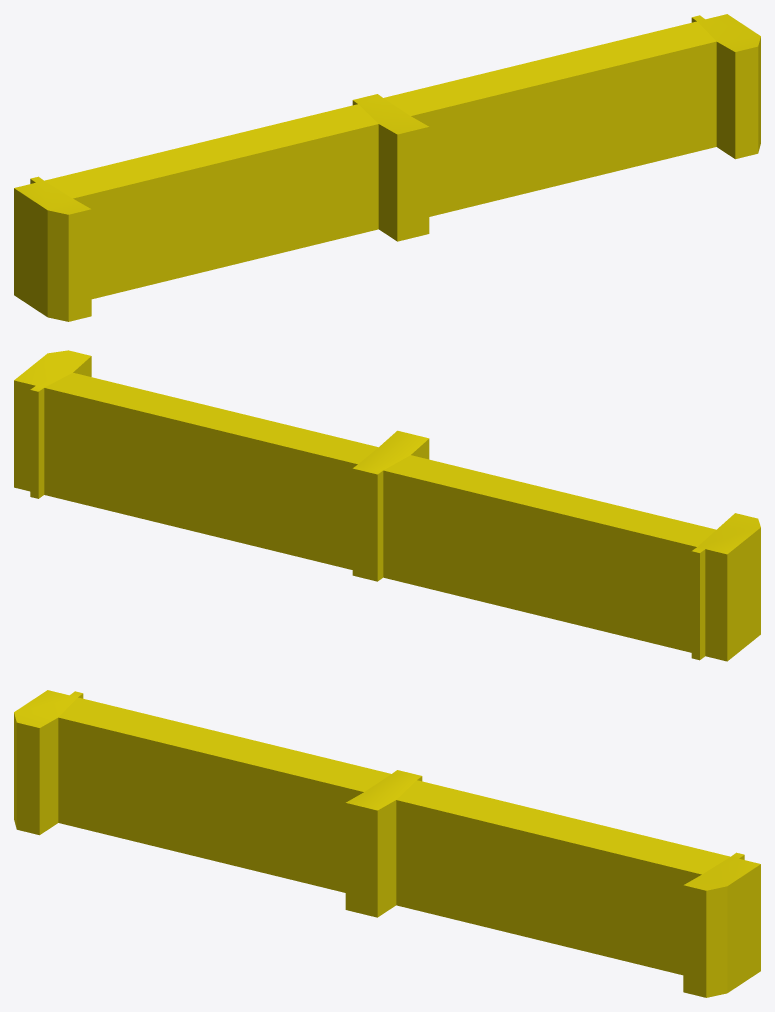
Rendered from Mdl_Vagon_pared.fbx.
The picture shows the model from 3 angles, top to bottom: view 1: azimuth 30°, elevation 25°; view 2: azimuth 150°, elevation 25°; view 3: azimuth 330°, elevation 25°; orthographic projection.
Visible parts, largest first — view 1: Mdl_Vagon_pared; view 2: Mdl_Vagon_pared; view 3: Mdl_Vagon_pared.
Boxes of the visible parts, left/top/right/bottom form: Mdl_Vagon_pared: left=14, top=14, right=760, bottom=321; Mdl_Vagon_pared: left=14, top=350, right=760, bottom=661; Mdl_Vagon_pared: left=14, top=690, right=760, bottom=997.
Bounding box in the file's own units: 59.53 × 8.74 × 6.98.
